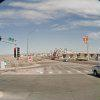Crosswalk: (18, 63, 91, 78)
